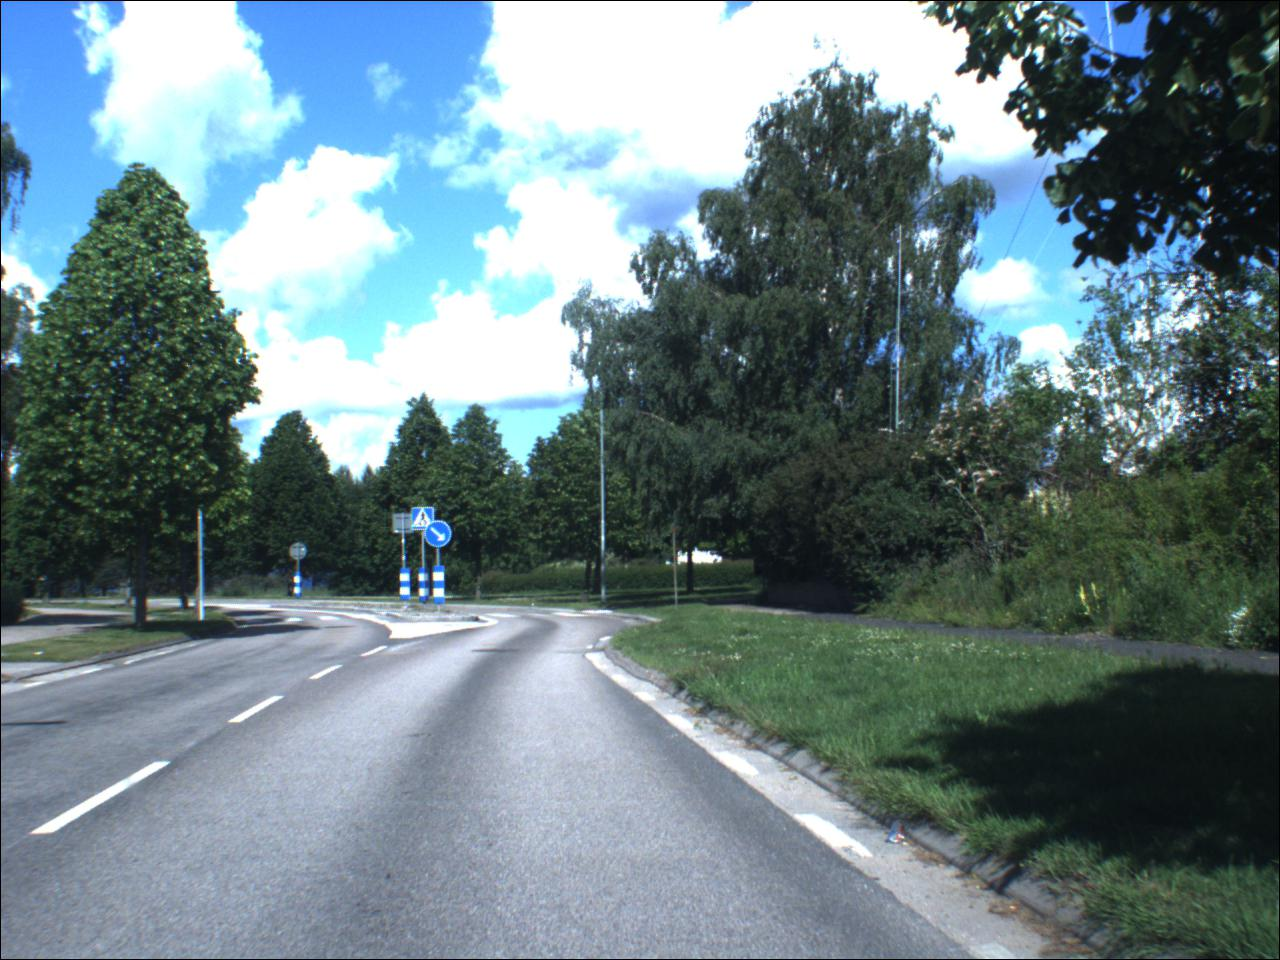PASS_RIGHT_SIDE: (426, 522, 455, 550)
PEDESTRIAN_CROSSING: (413, 509, 437, 533)
